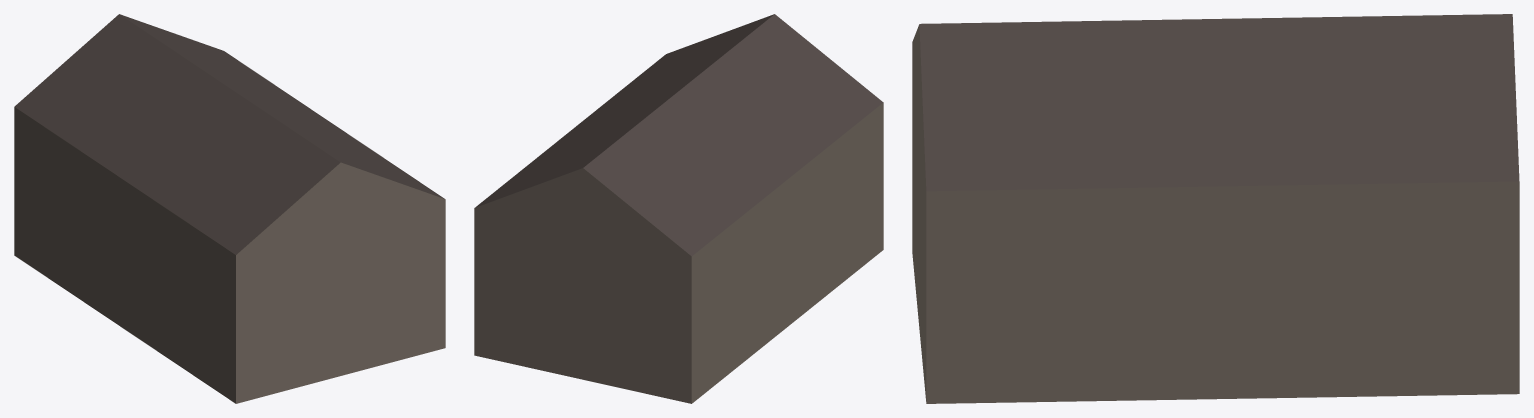
3 renders of one model, left to right at view 1: azimuth 30°, elevation 25°; view 2: azimuth 150°, elevation 25°; view 3: azimuth 270°, elevation 25°, orthographic. The views are drawn at different scales.
Parts seen in each view (by area): view 1: HP-w858824288; view 2: HP-w858824288; view 3: HP-w858824288.
Boxes of the visible parts, x1,y1,x2,y2 form: HP-w858824288: [14, 14, 445, 403]; HP-w858824288: [474, 14, 883, 403]; HP-w858824288: [912, 14, 1519, 403].
Size of the model in its own units: 14.47 by 12.92 by 23.28.
